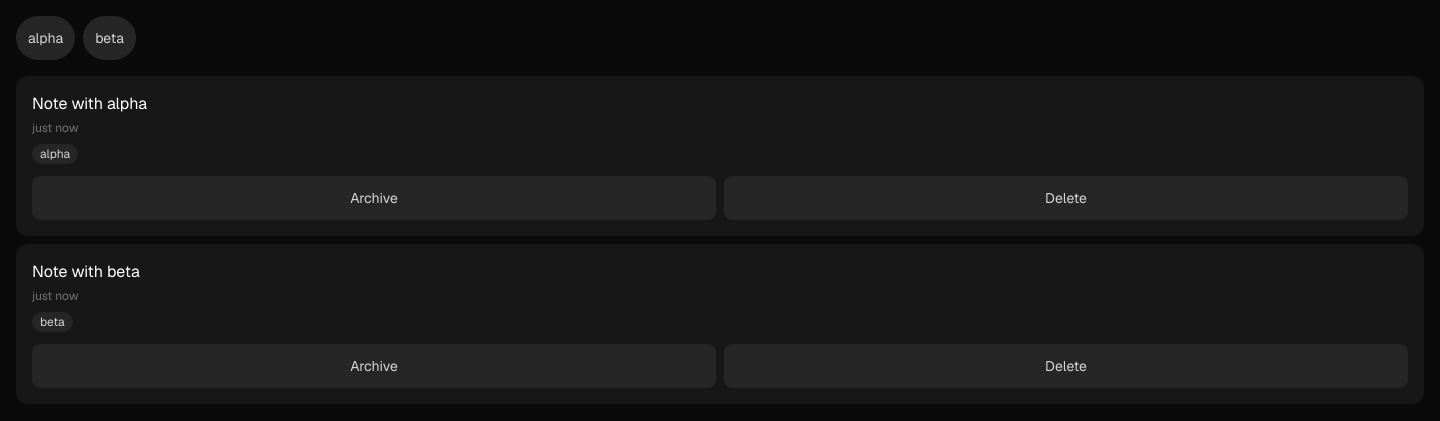
Test: NotesView › clears filter when active tag chip is clicked again
Click the button "alpha": (46, 38) [16, 16, 75, 60]
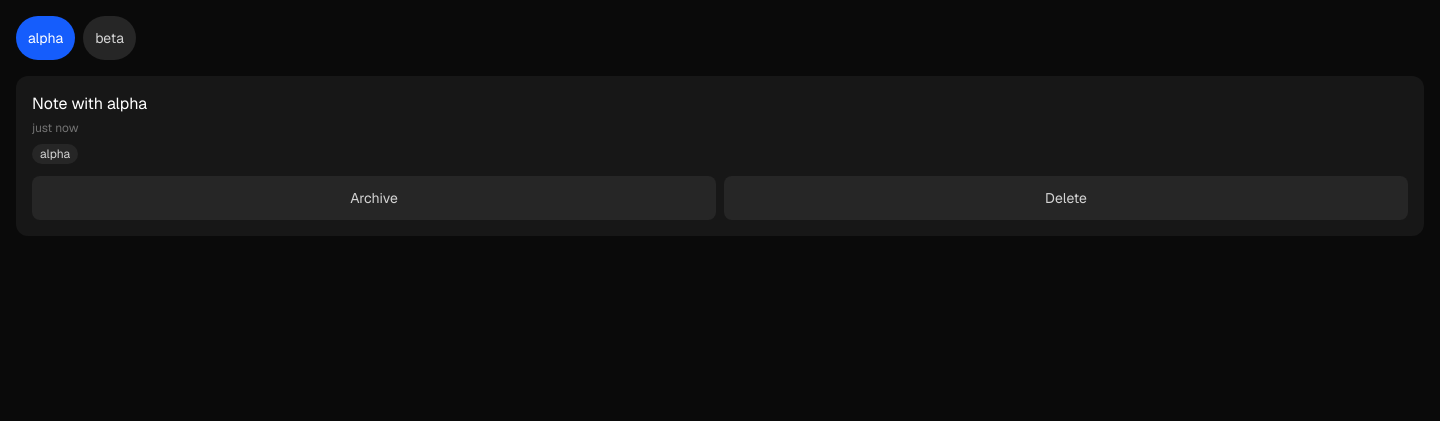
Now the button "Note with beta" is gone
Click again to clear
Click the button "alpha": (46, 38) [16, 16, 75, 60]
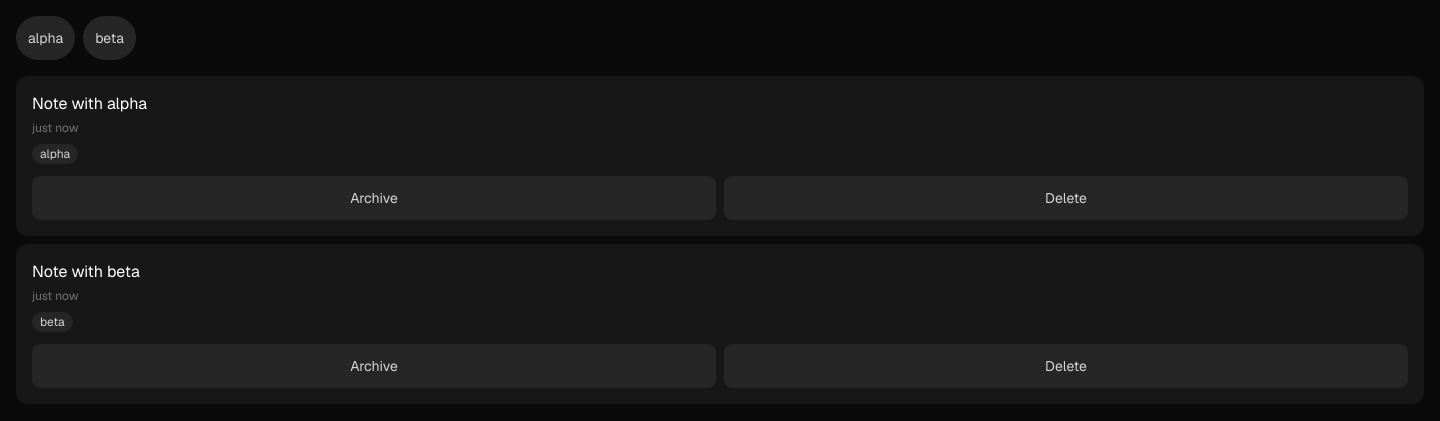
Expected: the text "Note with alpha" is shown, [32, 93, 147, 114]
Now the text "Note with beta" is shown, box [32, 261, 140, 282]
